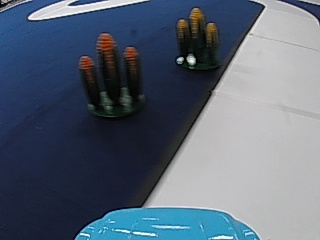corn: (80, 37, 146, 119), (174, 6, 221, 72)
